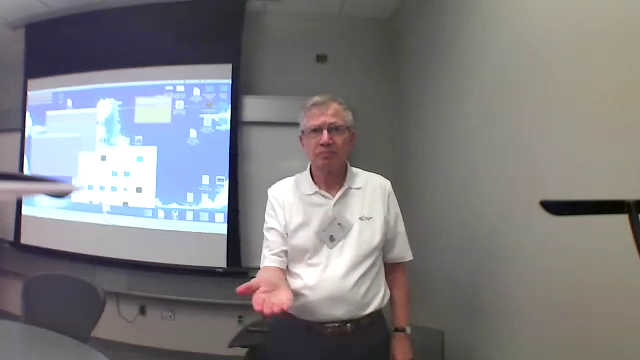land: (230, 264, 311, 326)
